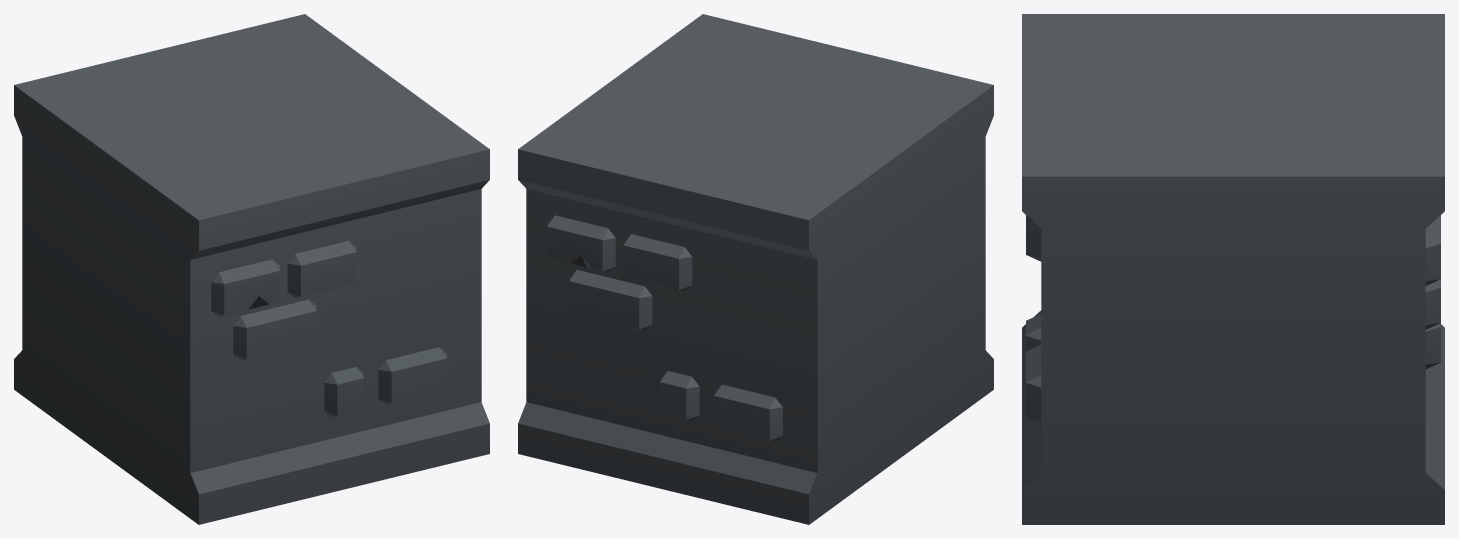
Rendered from floor_foundation_front_and_back.gltf.
3 renders of one model, left to right at view 1: azimuth 30°, elevation 25°; view 2: azimuth 150°, elevation 25°; view 3: azimuth 270°, elevation 25°, orthographic. The views are drawn at different scales.
Parts seen in each view (by area): view 1: floor_foundation_front_and_back; view 2: floor_foundation_front_and_back; view 3: floor_foundation_front_and_back.
Part boxes in pixels (x1,y1,x2,y2): floor_foundation_front_and_back: [14, 14, 489, 524]; floor_foundation_front_and_back: [518, 14, 993, 524]; floor_foundation_front_and_back: [1022, 14, 1444, 524].
Size of the model in its own units: 2 by 2 by 2.2.
Materials: 1 (1 with a texture image).
